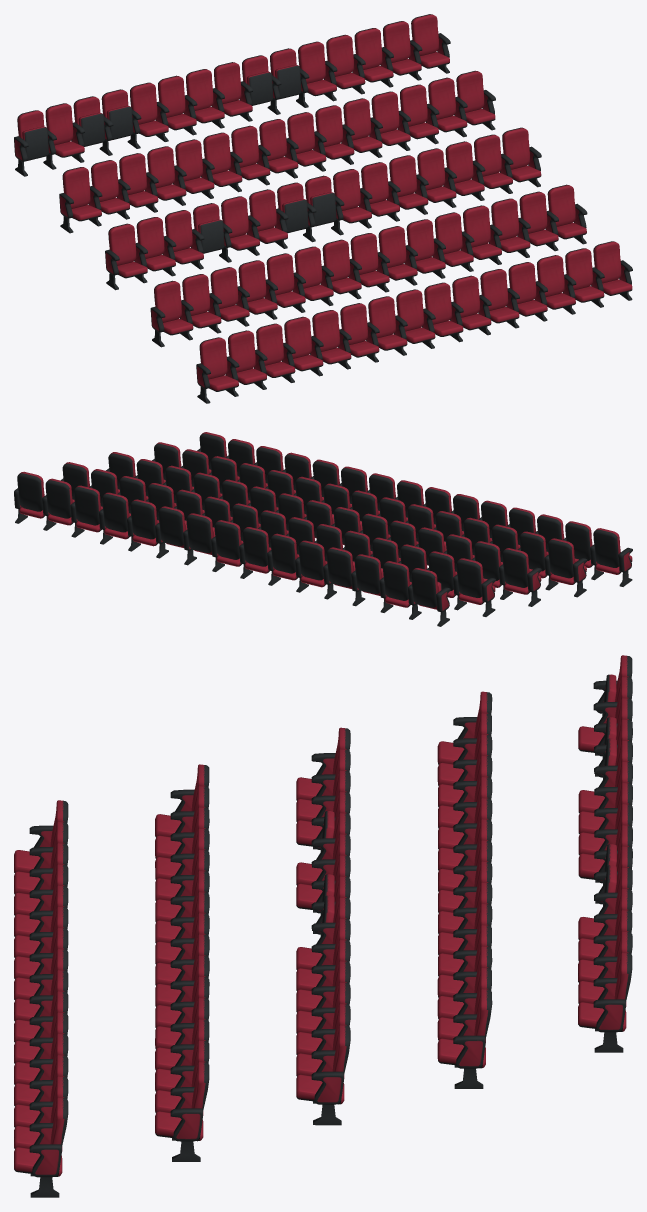
Rendered from CinemaArmChair01.FBX.
3 views of the same model, one above another, from view 1: azimuth 30°, elevation 25°; view 2: azimuth 150°, elevation 25°; view 3: azimuth 270°, elevation 25° (orthographic). The views are drawn at different scales.
Visible parts, largest first — view 1: CinemaArmChair01; view 2: CinemaArmChair01; view 3: CinemaArmChair01.
Part boxes in pixels (bbox=[...]): CinemaArmChair01: bbox=[14, 14, 632, 403]; CinemaArmChair01: bbox=[14, 432, 632, 626]; CinemaArmChair01: bbox=[14, 655, 632, 1197].
Size of the model in its own units: 1294 by 426 by 1051.
